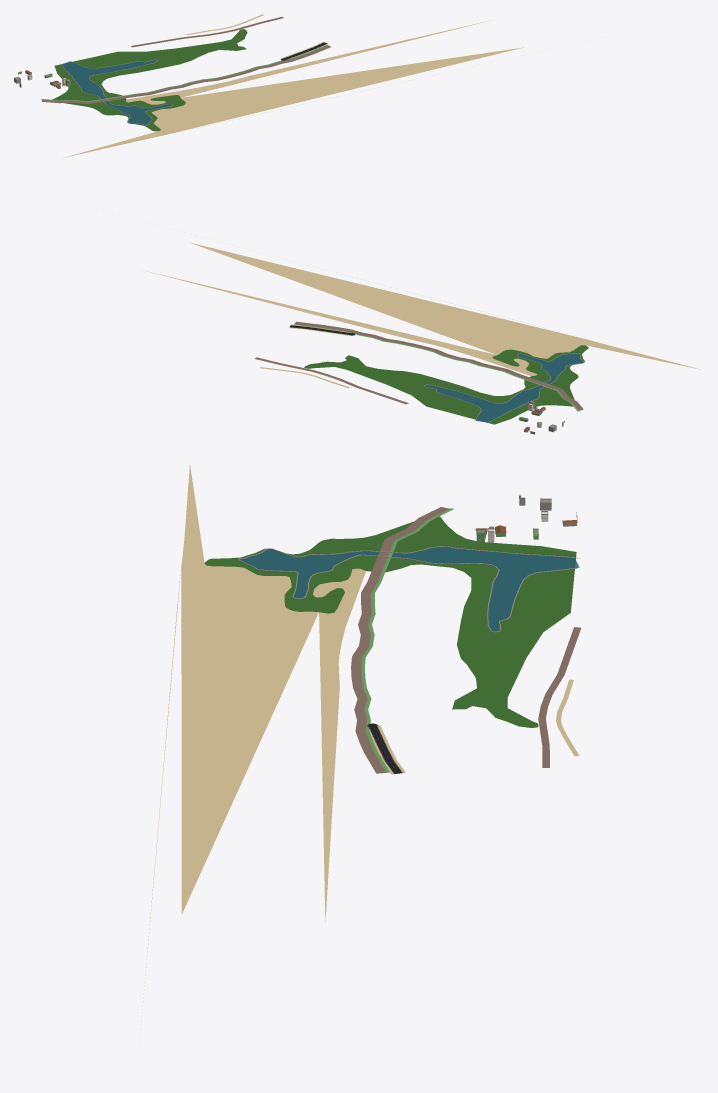
The model's file is zone_t-2_-1.glb.
The picture shows the model from 3 angles, top to bottom: view 1: azimuth 30°, elevation 25°; view 2: azimuth 150°, elevation 25°; view 3: azimuth 270°, elevation 25°; orthographic projection. The views are drawn at different scales.
Parts seen in each view (by area): view 1: zone_plage_t-2_-1, zone_humide_t-2_-1, zone_eau_t-2_-1, promenade_t-2_-1, bordure_bassin_t-2_-1-col, piste_cyclable_t-2_-1, route_residential_paves_t-2_-1; view 2: zone_plage_t-2_-1, zone_humide_t-2_-1, zone_eau_t-2_-1, promenade_t-2_-1, piste_cyclable_t-2_-1, bordure_bassin_t-2_-1-col, route_residential_paves_t-2_-1; view 3: zone_plage_t-2_-1, zone_humide_t-2_-1, zone_eau_t-2_-1, promenade_t-2_-1, bordure_bassin_t-2_-1-col, piste_cyclable_t-2_-1, route_residential_paves_t-2_-1.
Part boxes in pixels (bbox=[...]): zone_plage_t-2_-1: bbox=[63, 20, 522, 157]; zone_humide_t-2_-1: bbox=[52, 29, 247, 131]; zone_eau_t-2_-1: bbox=[61, 60, 172, 125]; promenade_t-2_-1: bbox=[42, 45, 330, 103]; bordure_bassin_t-2_-1-col: bbox=[60, 59, 172, 125]; piste_cyclable_t-2_-1: bbox=[41, 45, 327, 101]; route_residential_paves_t-2_-1: bbox=[131, 17, 283, 47]; zone_plage_t-2_-1: bbox=[143, 242, 700, 376]; zone_humide_t-2_-1: bbox=[304, 345, 588, 424]; zone_eau_t-2_-1: bbox=[425, 353, 583, 422]; promenade_t-2_-1: bbox=[294, 321, 583, 410]; piste_cyclable_t-2_-1: bbox=[294, 324, 579, 411]; bordure_bassin_t-2_-1-col: bbox=[424, 353, 584, 423]; route_residential_paves_t-2_-1: bbox=[254, 357, 408, 404]; zone_plage_t-2_-1: bbox=[140, 465, 365, 1036]; zone_humide_t-2_-1: bbox=[204, 516, 576, 727]; zone_eau_t-2_-1: bbox=[239, 546, 579, 631]; promenade_t-2_-1: bbox=[351, 507, 449, 773]; bordure_bassin_t-2_-1-col: bbox=[238, 546, 579, 632]; piste_cyclable_t-2_-1: bbox=[361, 508, 453, 772]; route_residential_paves_t-2_-1: bbox=[538, 627, 581, 767].
Size of the model in its own units: 1156 by 9.9 by 353.
